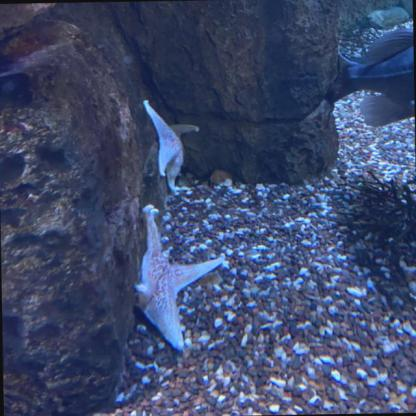fish: (334, 24, 414, 112)
starfish: (131, 206, 216, 348), (144, 97, 199, 194)
